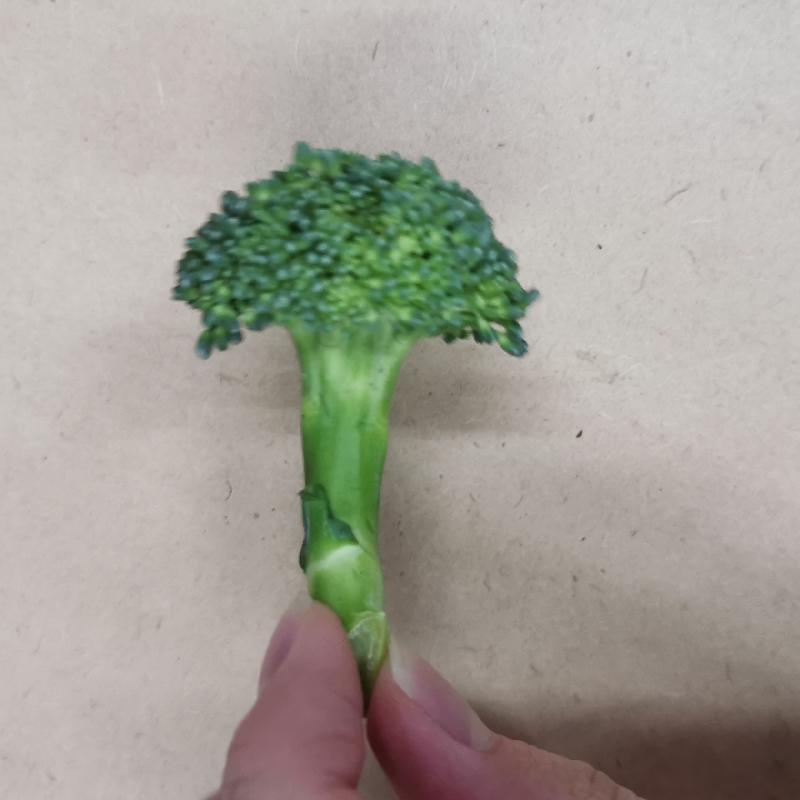broccoli: (160, 137, 541, 678)
